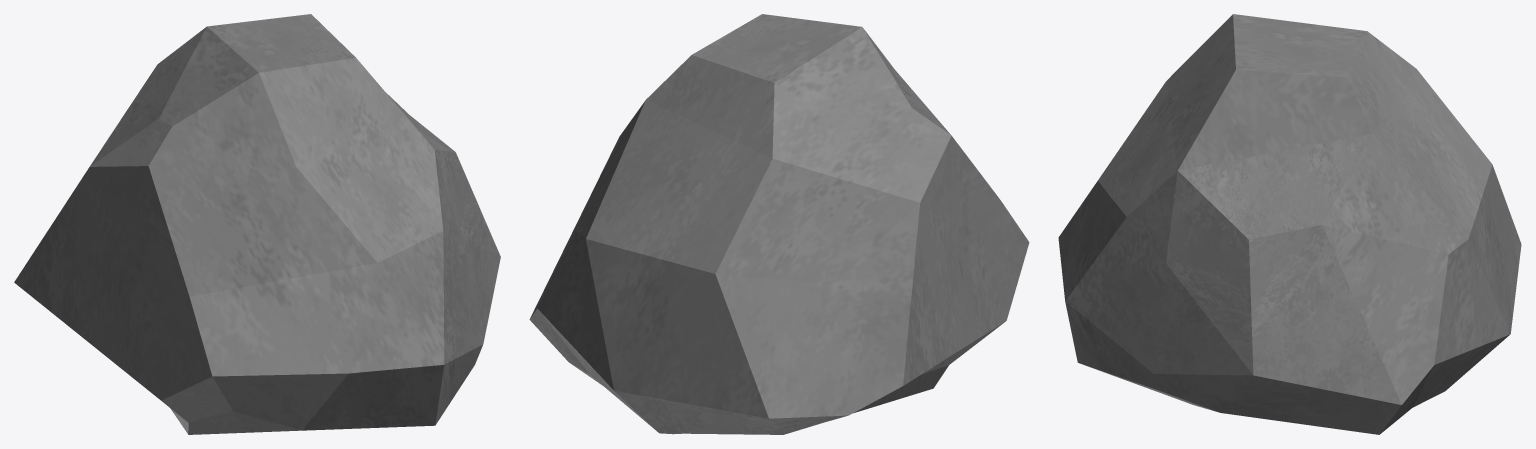
File: Rock_1.glb
3 renders of one model, left to right at view 1: azimuth 30°, elevation 25°; view 2: azimuth 150°, elevation 25°; view 3: azimuth 270°, elevation 25°, orthographic. The views are drawn at different scales.
Parts seen in each view (by area): view 1: Cube_079; view 2: Cube_079; view 3: Cube_079.
Part boxes in pixels (left/top/right/bottom): Cube_079: left=14, top=14, right=500, bottom=434; Cube_079: left=529, top=14, right=1029, bottom=434; Cube_079: left=1058, top=14, right=1521, bottom=434.
Bounding box in the file's own units: 1.23 × 1.08 × 1.3.
1 material, 1 textured.
